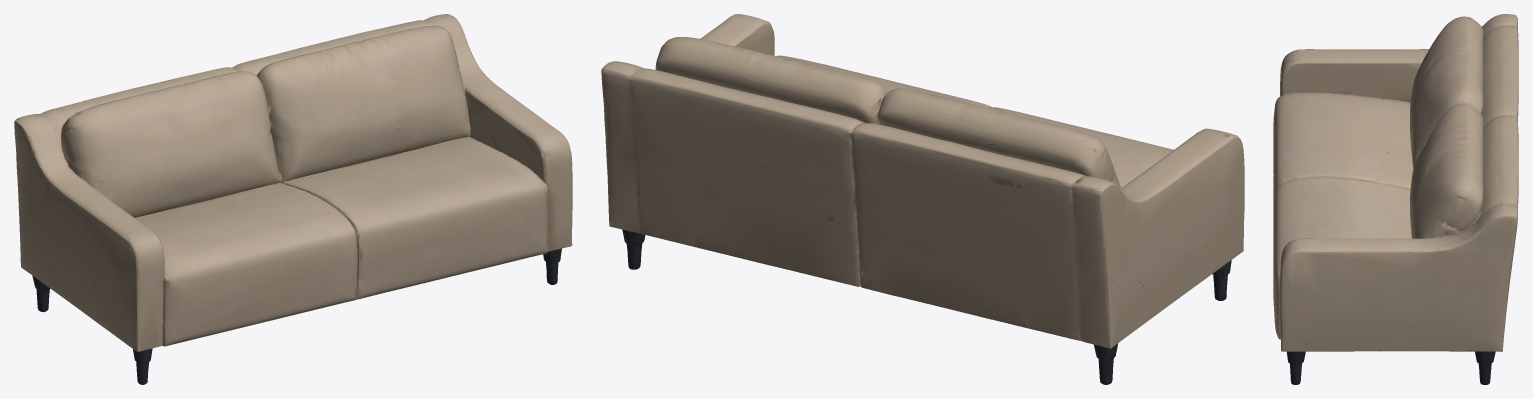
Rendered from ikea-gullvalla-sofa-silkeryd-dark-gray-beige-70618503.glb.
3 views of the same model, side by side, from view 1: azimuth 30°, elevation 25°; view 2: azimuth 150°, elevation 25°; view 3: azimuth 270°, elevation 25° (orthographic). The views are drawn at different scales.
Parts seen in each view (by area): view 1: model; view 2: model; view 3: model.
Part boxes in pixels (box(x1,y1,x2,y2)): model: box(14, 14, 572, 384); model: box(601, 14, 1244, 384); model: box(1273, 14, 1518, 384).
Bounding box in the file's own units: 1.78 × 0.7799 × 0.9066.
Materials: 1 (1 with a texture image).
